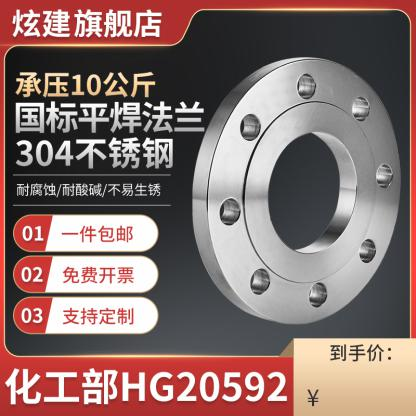FOD: (184, 54, 399, 328)
